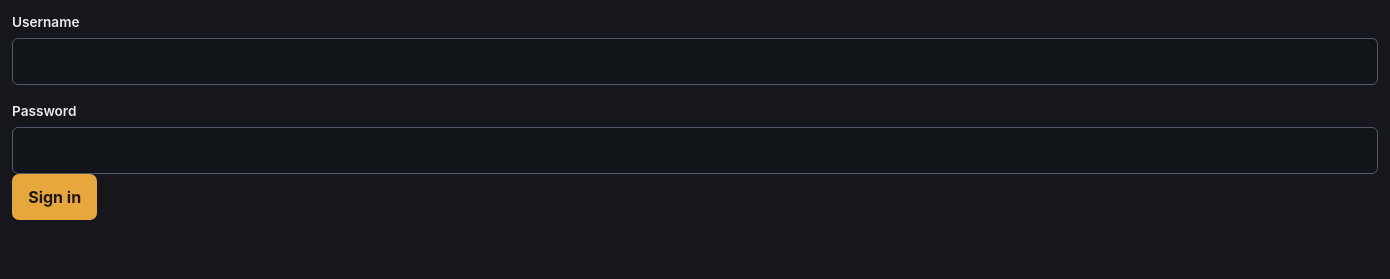
Test: login form in Chromium › rejects missing credentials locally and focuses the first missing field
Step 1. Click the button "Sign in" → click(55, 197), box [12,174,97,220]
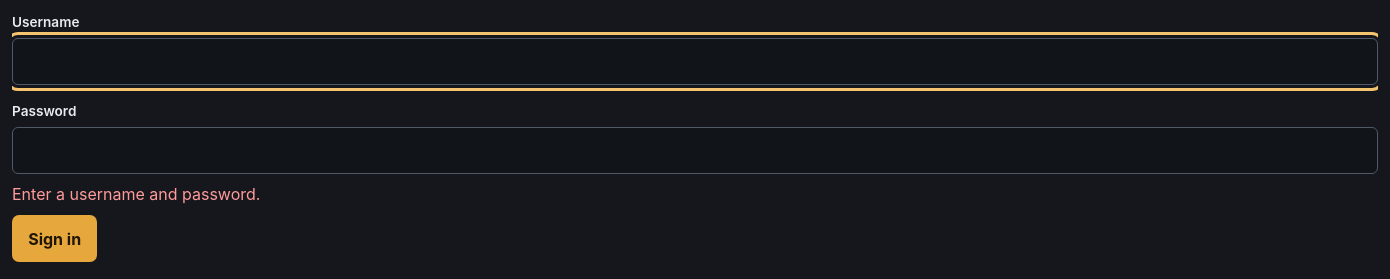
Expected: the message reads "Enter a username and password.", [12,184,260,204]
Step 2. Type "alice" into the field labelled "Username" → (695, 61), box [12,38,1378,85]
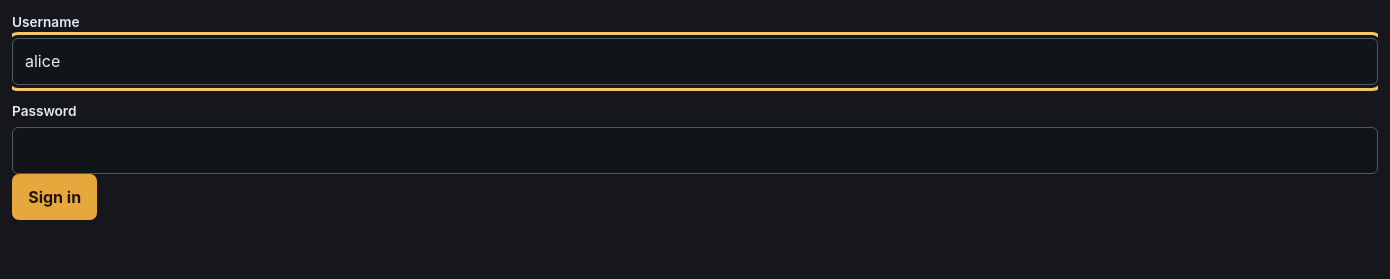
Step 3. Click the button "Sign in" → click(55, 197), box [12,174,97,220]
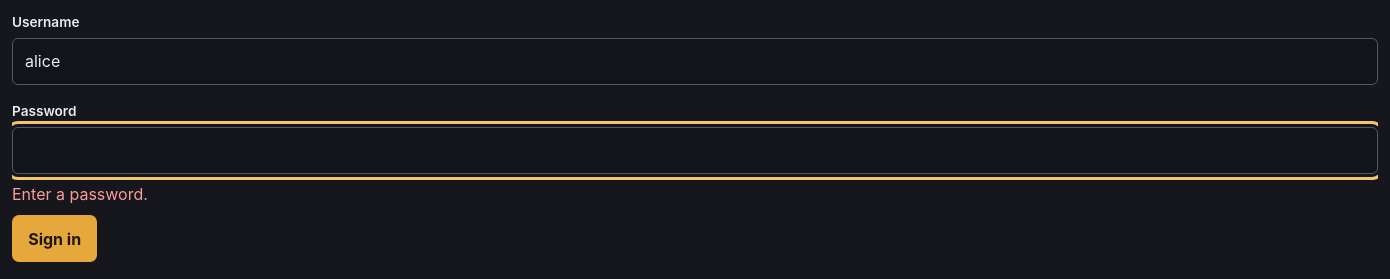
Expected: the message reads "Enter a password.", [12,184,148,204]
